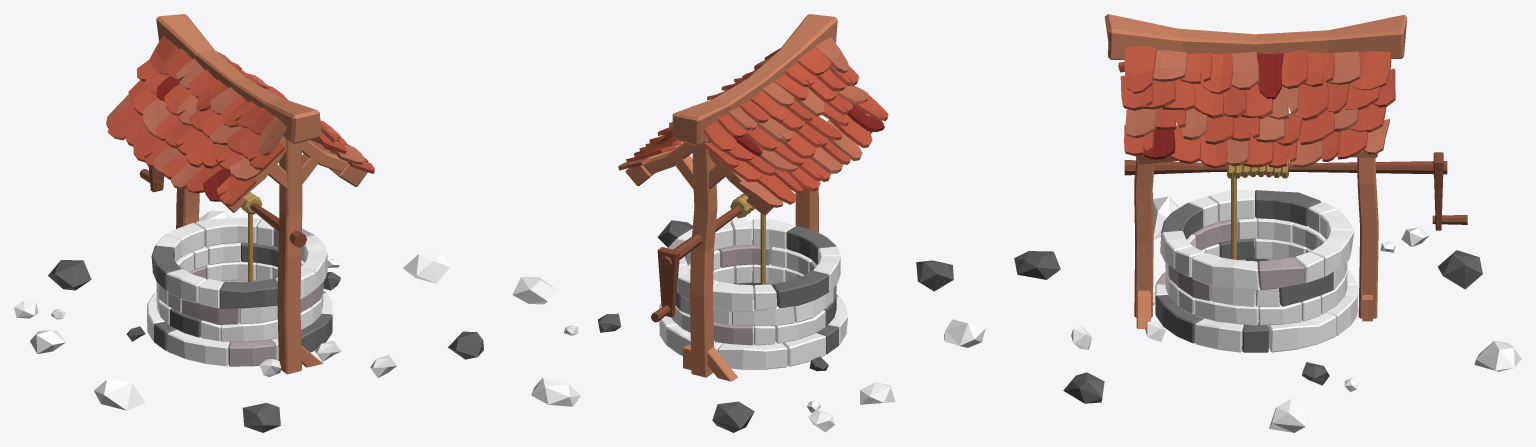
File: Sketchfab_2023_03_05_21_38_32.fbx
The picture shows the model from 3 angles, left to right: view 1: azimuth 30°, elevation 25°; view 2: azimuth 150°, elevation 25°; view 3: azimuth 270°, elevation 25°; orthographic projection. The views are drawn at different scales.
Visible parts, largest first — view 1: Cube, Plane.010, Cube.020, Icosphere.014, Cylinder.001, Cylinder.003; view 2: Cube, Plane.010, Cube.020, Icosphere.014, Cylinder.001, Cylinder.003; view 3: Plane.010, Cube, Cube.020, Icosphere.014, Cylinder.001, Cylinder.003.
Part boxes in pixels (left/top/right/bottom): Cube: left=147, top=218, right=332, bottom=366; Plane.010: left=106, top=35, right=374, bottom=206; Cube.020: left=156, top=14, right=367, bottom=374; Icosphere.014: left=14, top=210, right=483, bottom=432; Cylinder.001: left=139, top=167, right=306, bottom=247; Cylinder.003: left=240, top=192, right=262, bottom=281; Cube: left=659, top=219, right=847, bottom=369; Plane.010: left=618, top=37, right=888, bottom=207; Cube.020: left=625, top=14, right=872, bottom=381; Icosphere.014: left=512, top=220, right=985, bottom=432; Cylinder.001: left=651, top=206, right=741, bottom=322; Cylinder.003: left=730, top=193, right=765, bottom=284; Plane.010: left=1118, top=46, right=1395, bottom=168; Cube: left=1155, top=190, right=1357, bottom=352; Cube.020: left=1104, top=14, right=1407, bottom=328; Icosphere.014: left=1014, top=196, right=1521, bottom=432; Cylinder.001: left=1124, top=152, right=1467, bottom=230; Cylinder.003: left=1227, top=157, right=1288, bottom=259.
Size of the model in its own units: 4275 by 2806 by 4302.
